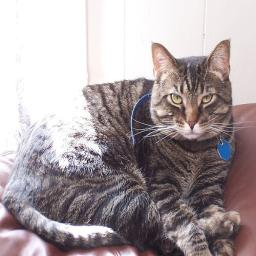catnose: (186, 120, 198, 130)
